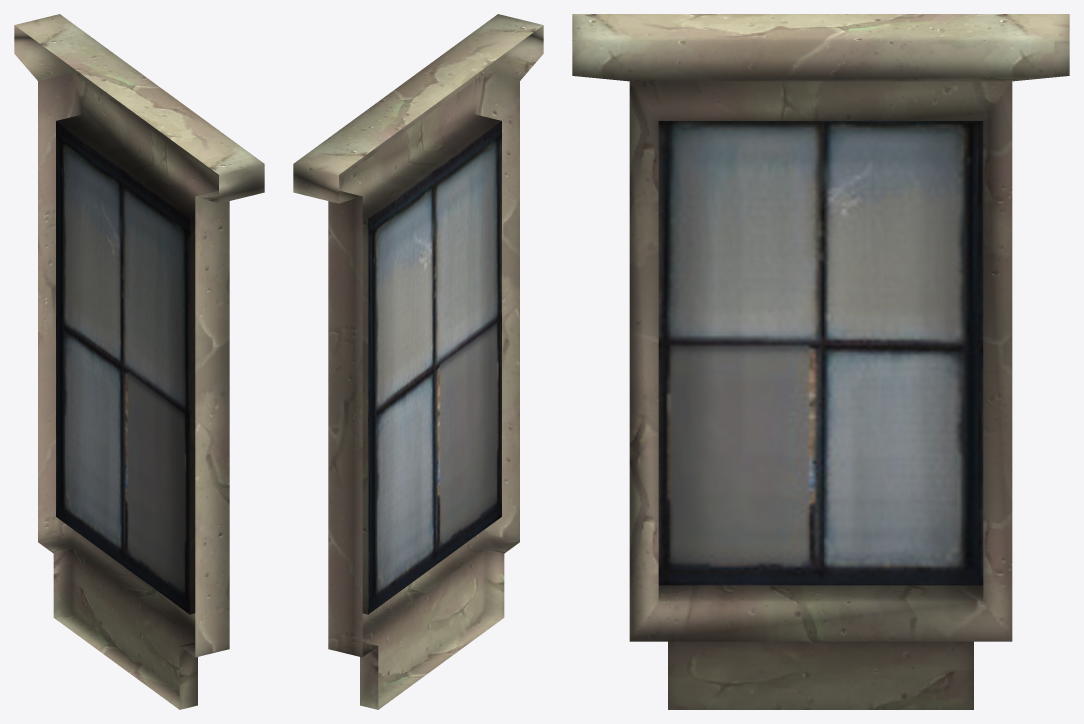
The model's file is Window5.fbx.
3 views of the same model, side by side, from view 1: azimuth 30°, elevation 25°; view 2: azimuth 150°, elevation 25°; view 3: azimuth 270°, elevation 25° (orthographic). The views are drawn at different scales.
Parts seen in each view (by area): view 1: Cube_001; view 2: Cube_001; view 3: Cube_001.
Part boxes in pixels (x1=…): Cube_001: x1=14, y1=14, x2=264, y2=709; Cube_001: x1=293, y1=14, x2=543, y2=709; Cube_001: x1=572, y1=14, x2=1069, y2=709.
Bounding box in the file's own units: 0.3341 × 3.95 × 2.6.
